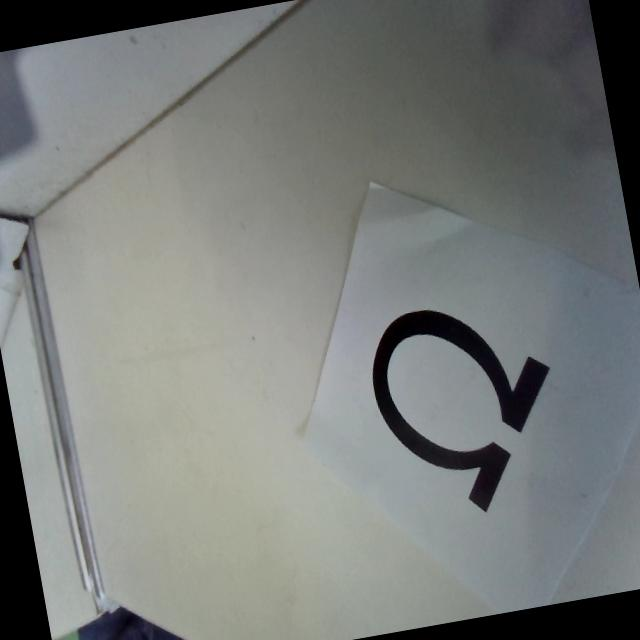OM: (360, 286, 574, 525)
